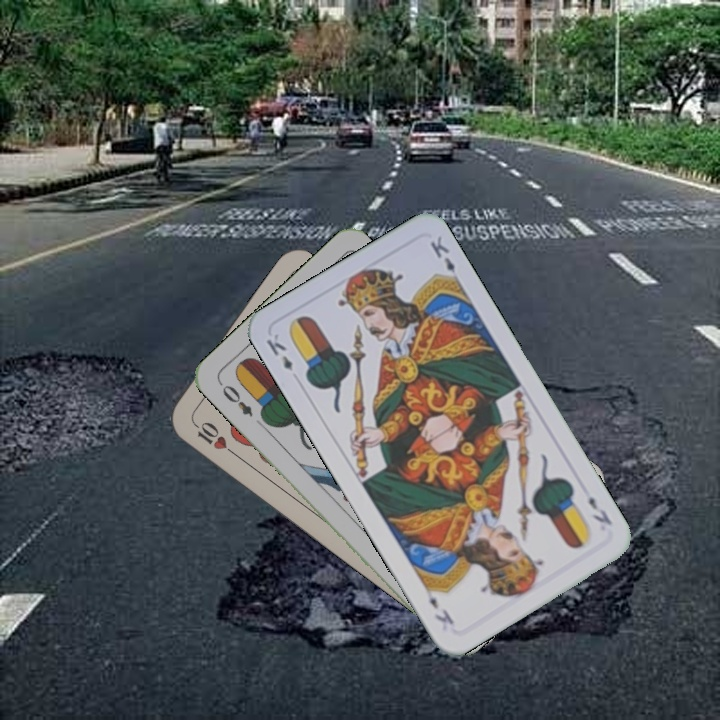EK: (262, 329, 296, 374), (584, 492, 615, 528)
EO: (215, 378, 256, 420)
H10: (189, 417, 239, 458)
